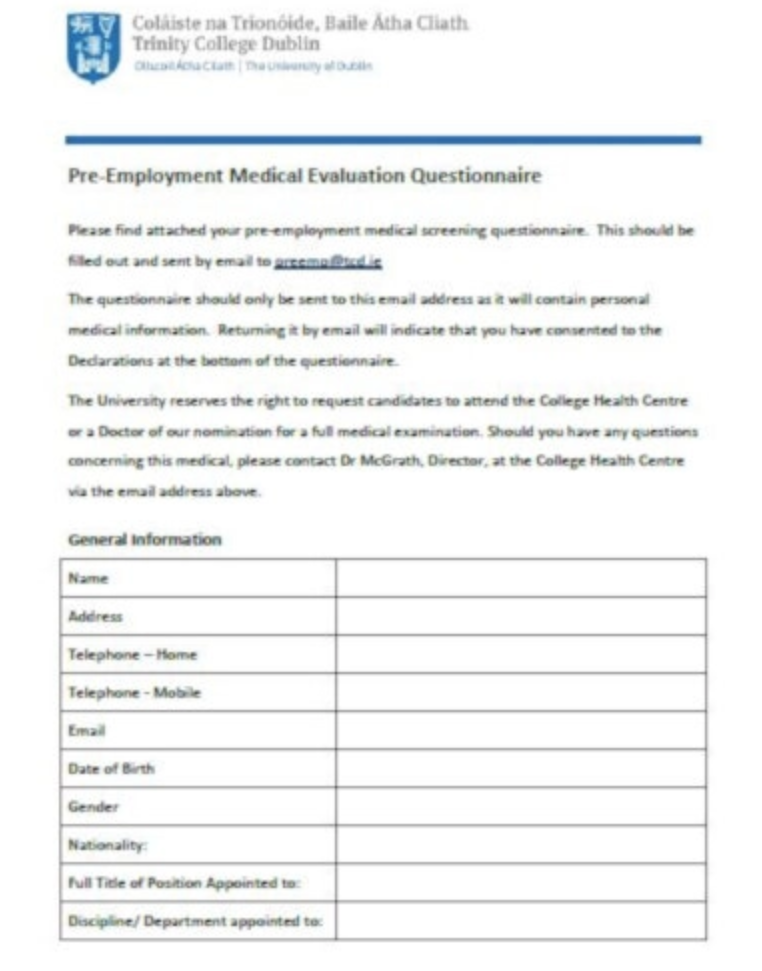textbox: (330, 585, 716, 641), (326, 628, 712, 683), (330, 740, 713, 791), (330, 704, 715, 754), (332, 553, 709, 604), (327, 781, 717, 830), (330, 858, 718, 907), (330, 668, 716, 717), (330, 820, 715, 869), (329, 896, 722, 944)
